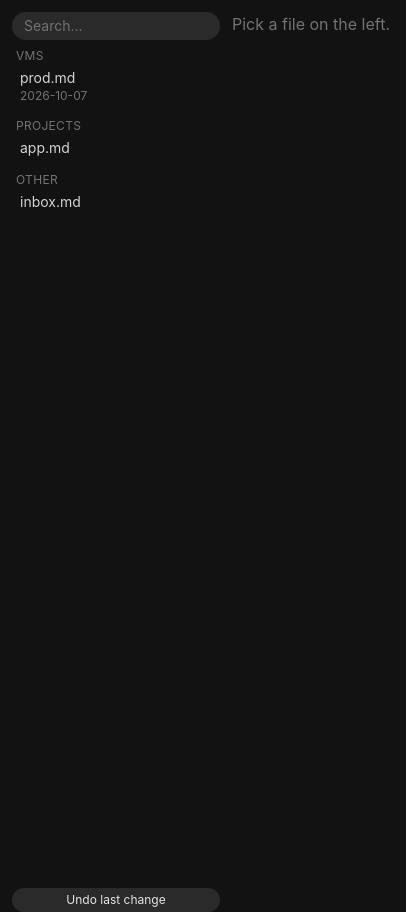
Test case: Browse › filters by search and shows a snippet
The width and height of the screenshot is (406, 912).
Type "billing" into the search field named "Search notes" at (116, 26), box [12,12,220,40]
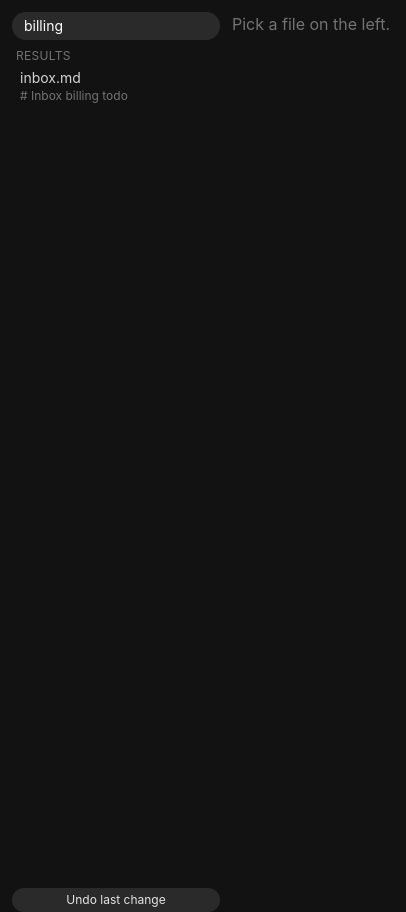
Expected: the button "inbox.md # Inbox billing todo" is shown, [12,64,216,108]
Expected: the button "prod.md" is gone
Expected: the text "# Inbox billing todo" is shown, [20,88,128,103]
